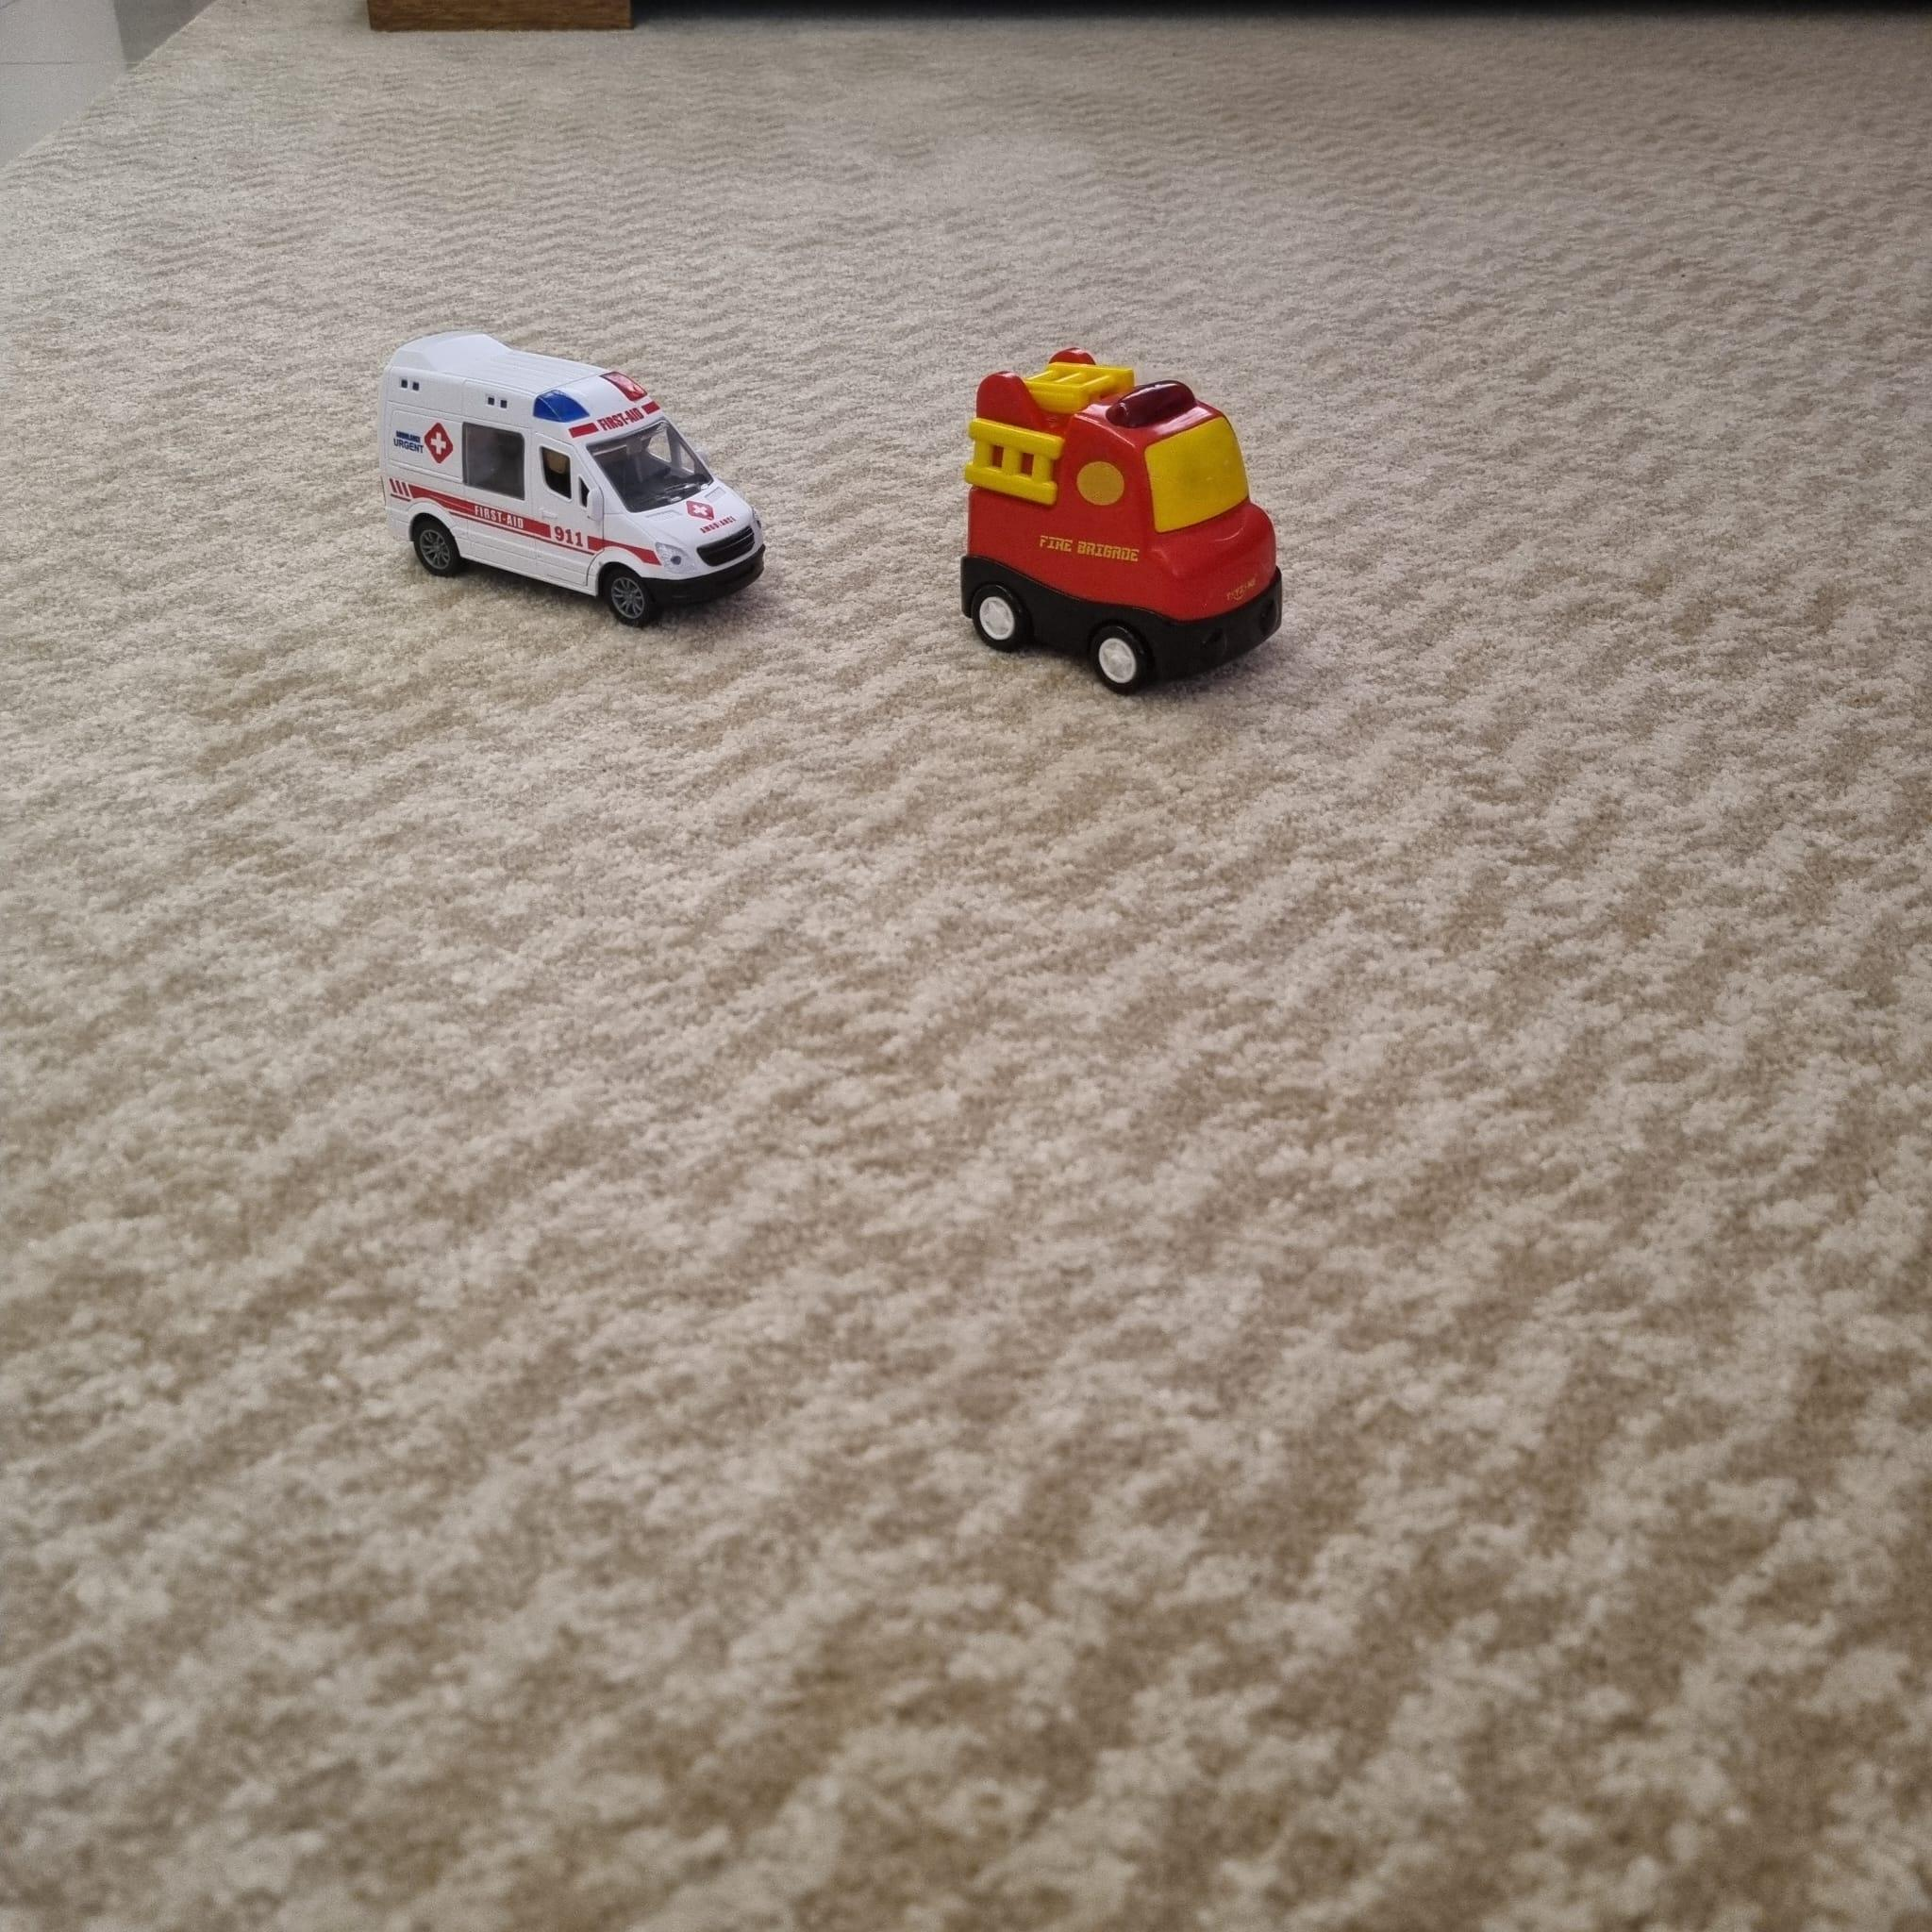ambulance_off: (387, 331, 763, 625)
firetruck_off: (959, 340, 1283, 704)
